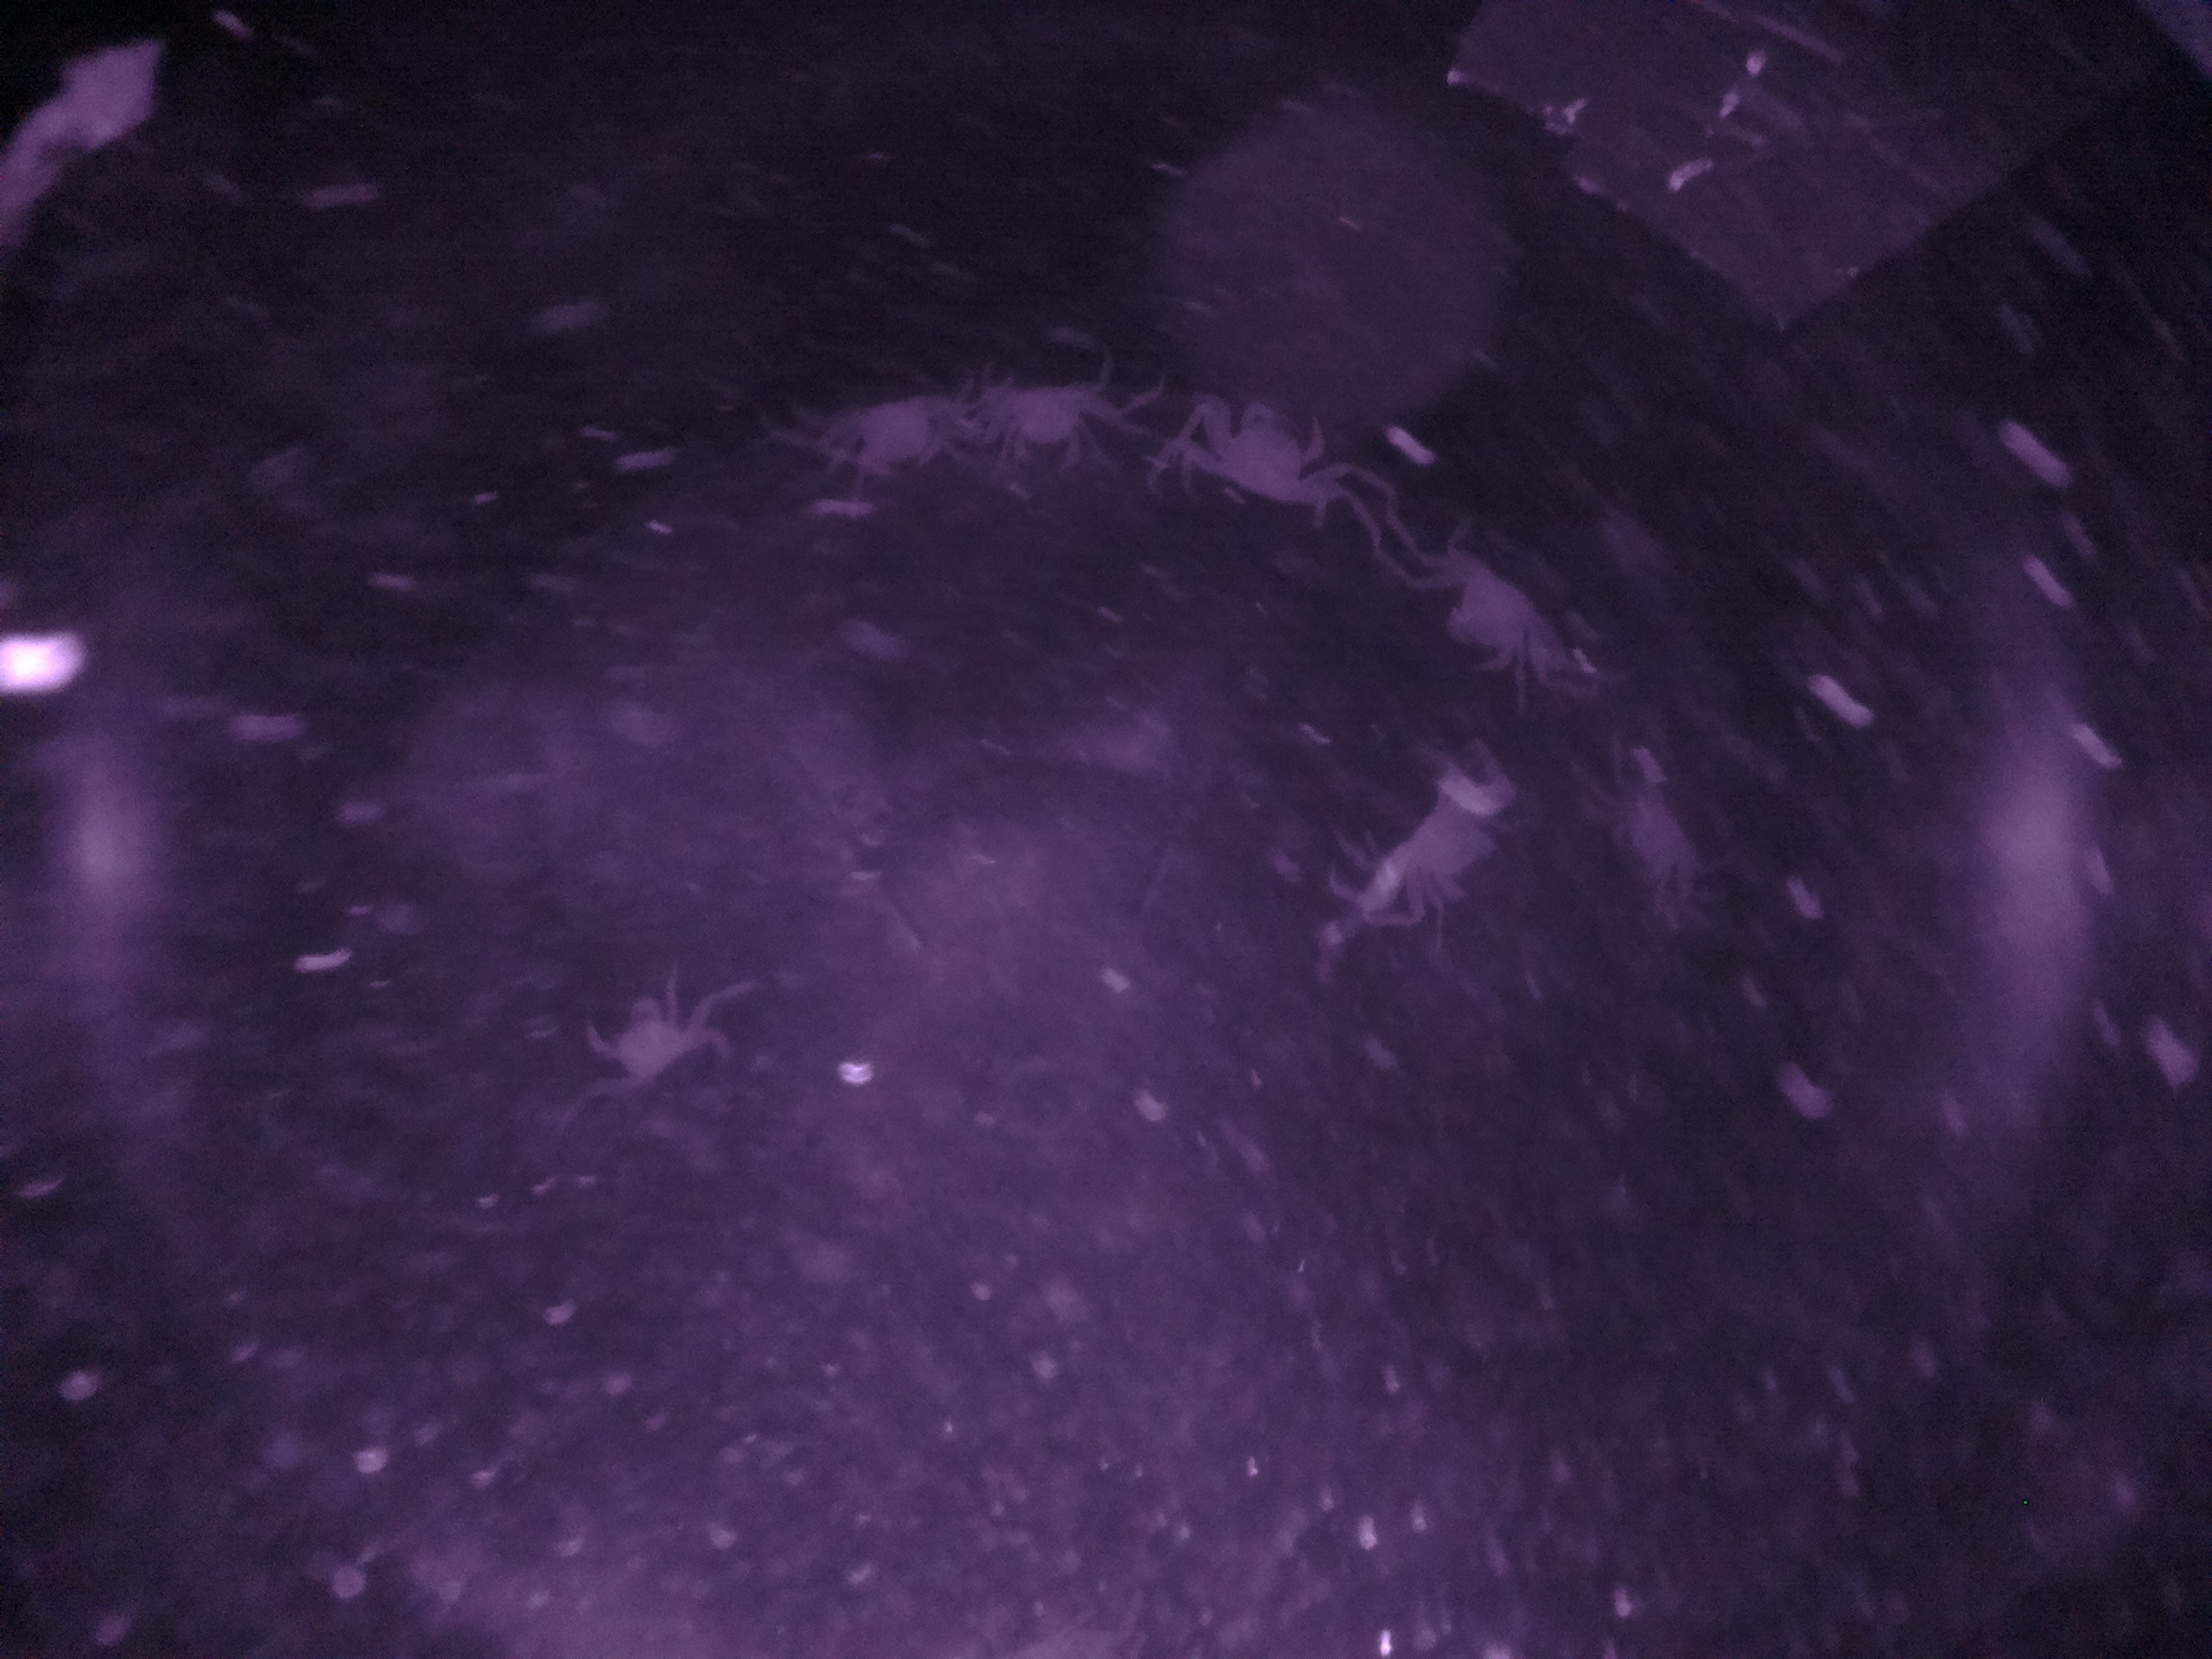Crab: (1150, 387, 1390, 538)
